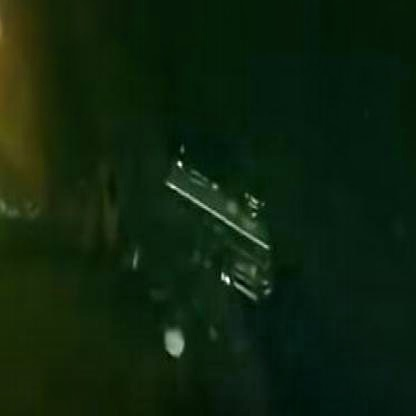electronics: (148, 139, 288, 319)
